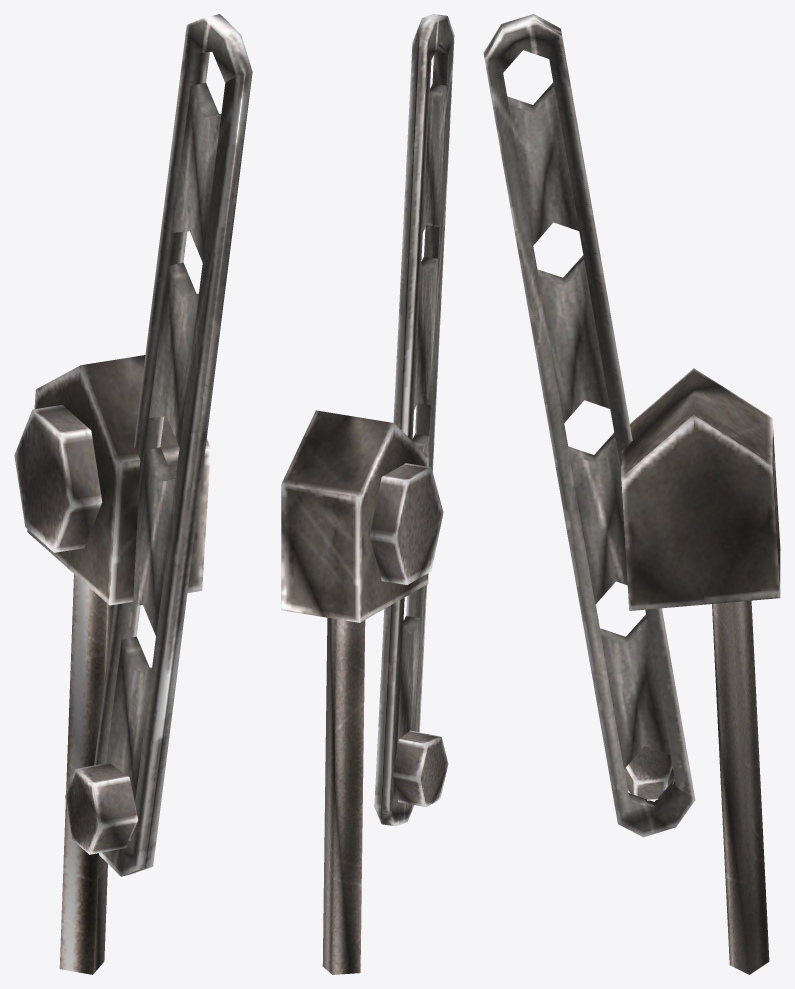
The model's file is Robot01.RightKnee2.fbx.
3 renders of one model, left to right at view 1: azimuth 30°, elevation 25°; view 2: azimuth 150°, elevation 25°; view 3: azimuth 270°, elevation 25°, orthographic. The views are drawn at different scales.
Visible parts, largest first — view 1: Robot01.RightKnee2; view 2: Robot01.RightKnee2; view 3: Robot01.RightKnee2.
Part boxes in pixels (left/top/right/bottom): Robot01.RightKnee2: left=14, top=14, right=252, bottom=974; Robot01.RightKnee2: left=281, top=14, right=454, bottom=974; Robot01.RightKnee2: left=483, top=14, right=780, bottom=974.
Bounding box in the file's own units: 12.38 × 95.69 × 27.01.
